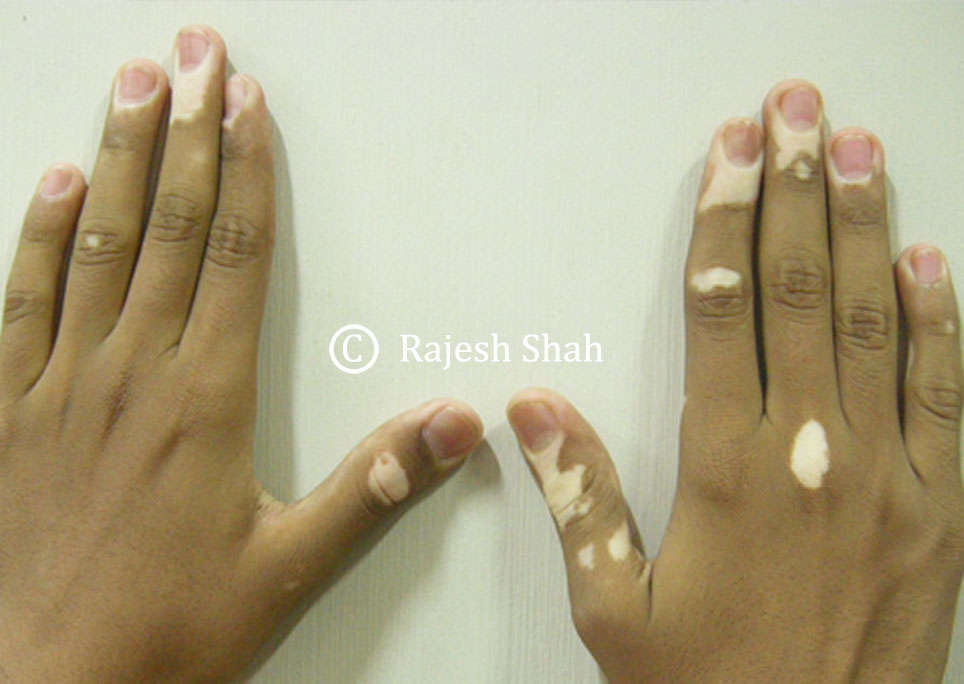Diseased: (126, 43, 892, 587)
